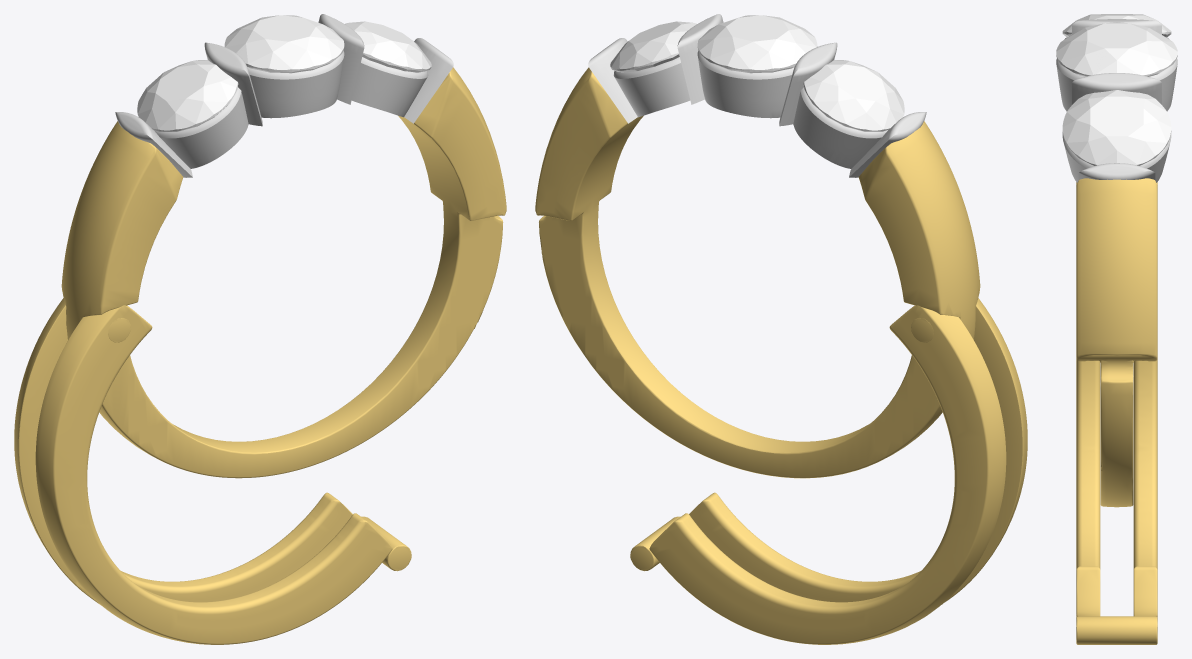
The model's file is hinge_webgi_demo.glb.
3 renders of one model, left to right at view 1: azimuth 30°, elevation 25°; view 2: azimuth 150°, elevation 25°; view 3: azimuth 270°, elevation 25°, orthographic.
Visible parts, largest first — view 1: Sally_ring_YG_shank_1_for_3d_model, Sally_ring_YG_shank_2_for_3d_model, Sally_ring_PT_for_3d_model, Sally_ring_diamonds_for_3d_model001, Sally_ring_diamonds_for_3d_model002, Sally_ring_diamonds_for_3d_model; view 2: Sally_ring_YG_shank_1_for_3d_model, Sally_ring_YG_shank_2_for_3d_model, Sally_ring_PT_for_3d_model, Sally_ring_diamonds_for_3d_model001, Sally_ring_diamonds_for_3d_model002, Sally_ring_diamonds_for_3d_model; view 3: Sally_ring_YG_shank_1_for_3d_model, Sally_ring_YG_shank_2_for_3d_model, Sally_ring_diamonds_for_3d_model, Sally_ring_PT_for_3d_model, Sally_ring_diamonds_for_3d_model001, Sally_ring_diamonds_for_3d_model002.
Part boxes in pixels (left/top/right/bottom): Sally_ring_YG_shank_1_for_3d_model: left=61, top=67, right=506, bottom=478; Sally_ring_YG_shank_2_for_3d_model: left=14, top=298, right=411, bottom=644; Sally_ring_PT_for_3d_model: left=115, top=14, right=453, bottom=177; Sally_ring_diamonds_for_3d_model001: left=224, top=15, right=344, bottom=73; Sally_ring_diamonds_for_3d_model002: left=137, top=60, right=238, bottom=131; Sally_ring_diamonds_for_3d_model: left=345, top=21, right=431, bottom=72; Sally_ring_YG_shank_1_for_3d_model: left=535, top=67, right=980, bottom=478; Sally_ring_YG_shank_2_for_3d_model: left=630, top=298, right=1027, bottom=644; Sally_ring_PT_for_3d_model: left=588, top=14, right=926, bottom=177; Sally_ring_diamonds_for_3d_model001: left=697, top=15, right=817, bottom=73; Sally_ring_diamonds_for_3d_model002: left=803, top=60, right=904, bottom=131; Sally_ring_diamonds_for_3d_model: left=610, top=21, right=696, bottom=72; Sally_ring_YG_shank_1_for_3d_model: left=1076, top=178, right=1157, bottom=507; Sally_ring_YG_shank_2_for_3d_model: left=1076, top=182, right=1157, bottom=644; Sally_ring_diamonds_for_3d_model: left=1062, top=90, right=1171, bottom=165; Sally_ring_PT_for_3d_model: left=1056, top=19, right=1177, bottom=182; Sally_ring_diamonds_for_3d_model001: left=1056, top=22, right=1177, bottom=76; Sally_ring_diamonds_for_3d_model002: left=1062, top=14, right=1171, bottom=37.
Size of the model in its own units: 3.06 by 3.69 by 0.6744.
